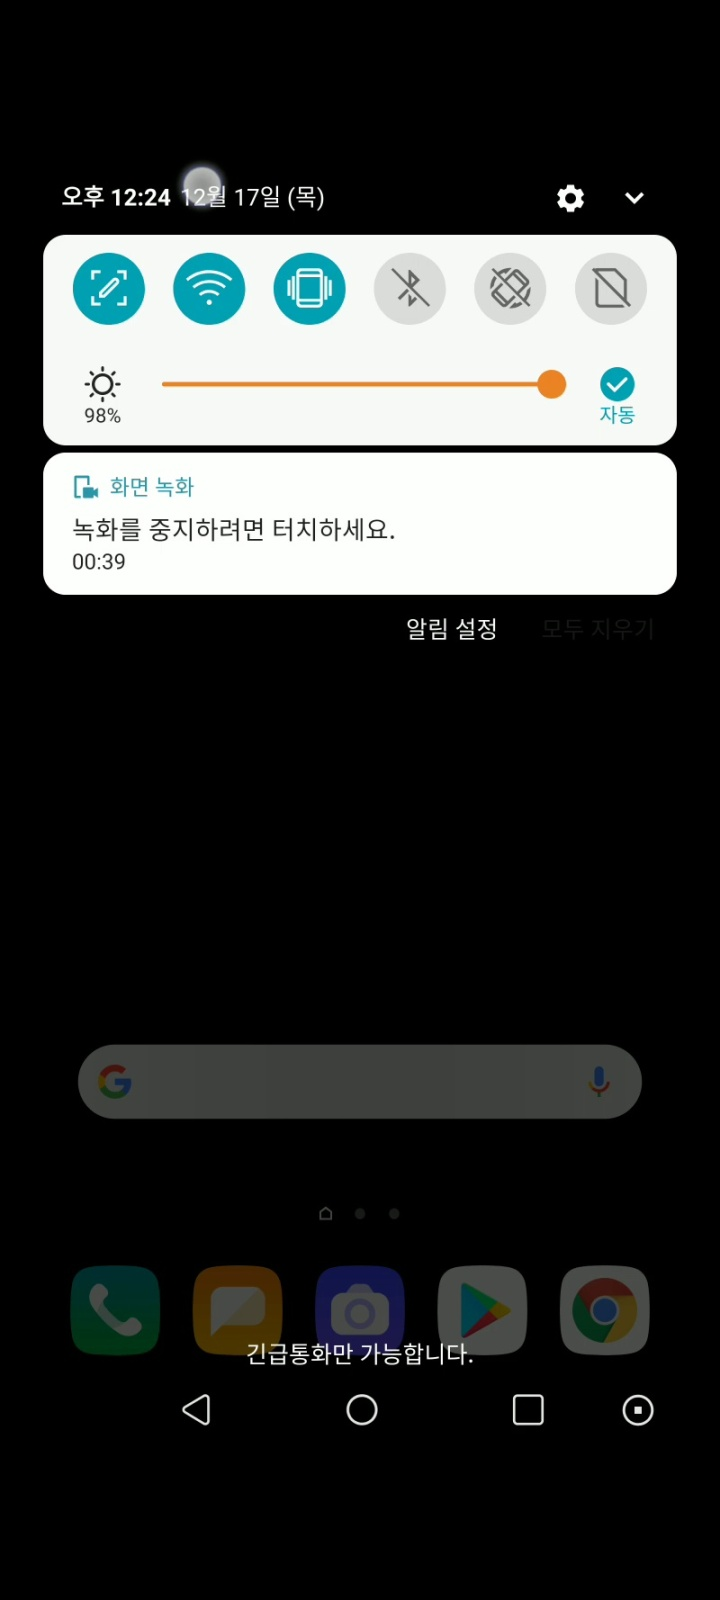Cursor: (179, 167, 225, 213)
